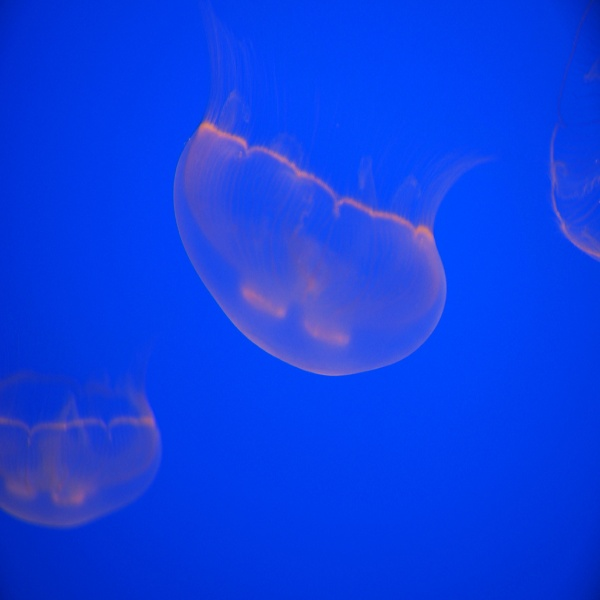Jellyfish: (171, 2, 490, 379), (0, 359, 162, 532), (546, 0, 599, 261)
